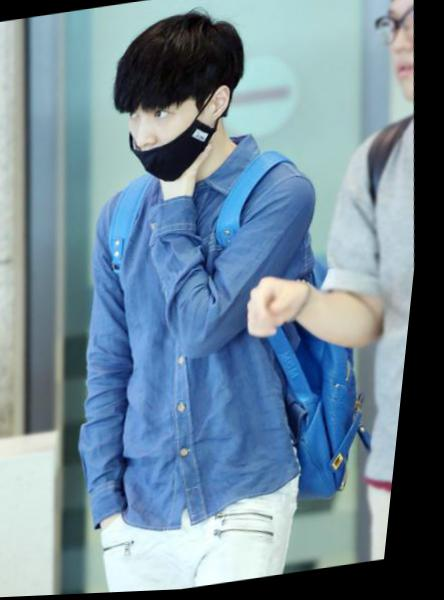NONE: (375, 1, 426, 110)
WRONG: (124, 94, 225, 189)
